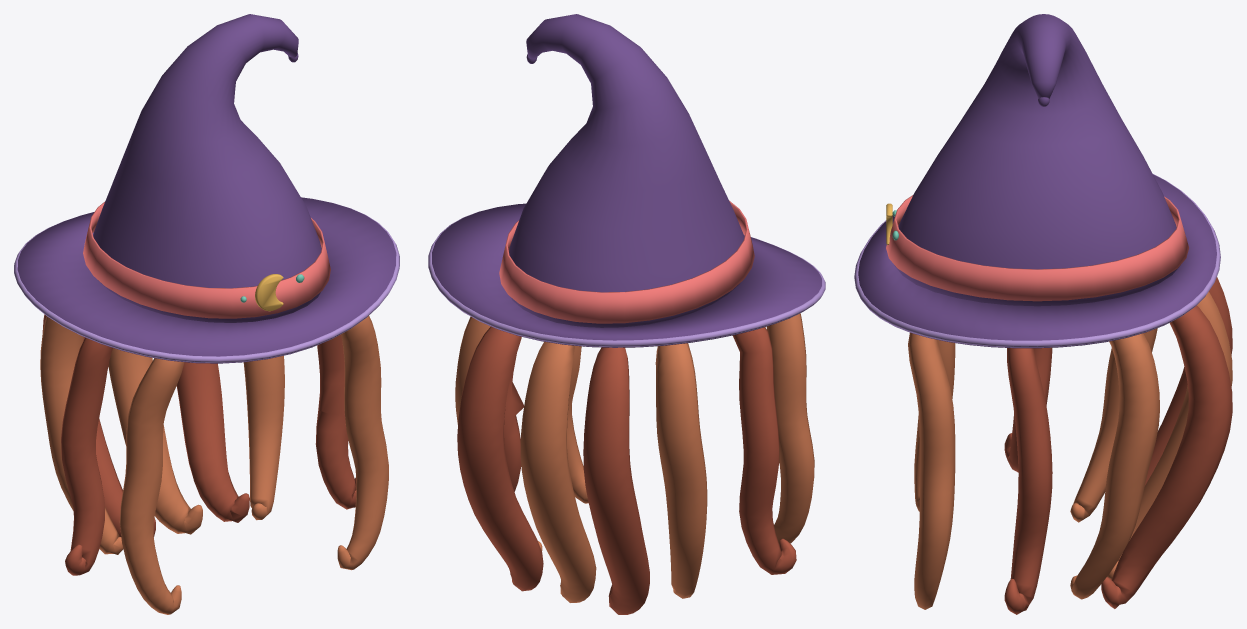
The model's file is witch-hat-hair.glb.
The picture shows the model from 3 angles, left to right: view 1: azimuth 30°, elevation 25°; view 2: azimuth 150°, elevation 25°; view 3: azimuth 270°, elevation 25°; orthographic projection. The views are drawn at different scales.
Visible parts, largest first — view 1: hollow-plum-crown, wavy-brim-with-underside, left-curl-1, right-curl-1, left-curl-2, coral-hatband, back-curl-3, right-curl-3, right-curl-2, left-curl-3, back-curl-2, lavender-brim-piping (+2 smaller); view 2: hollow-plum-crown, wavy-brim-with-underside, back-curl-3, back-curl-1, back-curl-2, left-curl-3, coral-hatband, left-curl-2, left-curl-1, lavender-brim-piping, right-curl-2, right-curl-1 (+1 smaller); view 3: hollow-plum-crown, wavy-brim-with-underside, back-curl-3, coral-hatband, right-curl-3, right-curl-1, right-curl-2, lavender-brim-piping, left-curl-3, back-curl-2, back-curl-1, left-curl-2 (+1 smaller).
Boxes of the visible parts, x1=… form: hollow-plum-crown: x1=93, y1=14, x2=321, y2=322; wavy-brim-with-underside: x1=17, y1=197, x2=396, y2=363; left-curl-1: x1=119, y1=358, x2=184, y2=614; right-curl-1: x1=337, y1=316, x2=388, y2=570; left-curl-2: x1=61, y1=337, x2=112, y2=575; coral-hatband: x1=83, y1=202, x2=330, y2=318; back-curl-3: x1=176, y1=362, x2=249, y2=522; right-curl-3: x1=243, y1=355, x2=284, y2=520; right-curl-2: x1=315, y1=334, x2=356, y2=509; left-curl-3: x1=40, y1=316, x2=123, y2=554; back-curl-2: x1=108, y1=348, x2=202, y2=534; lavender-brim-piping: x1=14, y1=203, x2=399, y2=362; hollow-plum-crown: x1=509, y1=14, x2=744, y2=327; wavy-brim-with-underside: x1=432, y1=203, x2=821, y2=347; back-curl-3: x1=457, y1=326, x2=543, y2=591; back-curl-1: x1=583, y1=347, x2=649, y2=614; back-curl-2: x1=520, y1=341, x2=596, y2=602; left-curl-3: x1=655, y1=343, x2=707, y2=598; coral-hatband: x1=499, y1=200, x2=754, y2=323; left-curl-2: x1=732, y1=327, x2=796, y2=574; left-curl-1: x1=766, y1=313, x2=814, y2=544; lavender-brim-piping: x1=428, y1=207, x2=825, y2=347; right-curl-2: x1=504, y1=353, x2=524, y2=491; right-curl-1: x1=567, y1=346, x2=588, y2=503; hollow-plum-crown: x1=894, y1=14, x2=1180, y2=306; wavy-brim-with-underside: x1=858, y1=174, x2=1216, y2=348; back-curl-3: x1=1101, y1=305, x2=1232, y2=608; coral-hatband: x1=886, y1=195, x2=1188, y2=301; right-curl-3: x1=1070, y1=333, x2=1159, y2=599; right-curl-1: x1=908, y1=332, x2=955, y2=609; right-curl-2: x1=1004, y1=348, x2=1052, y2=614; lavender-brim-piping: x1=854, y1=174, x2=1220, y2=347; left-curl-3: x1=1070, y1=328, x2=1157, y2=522; back-curl-2: x1=1107, y1=292, x2=1232, y2=579; back-curl-1: x1=1145, y1=277, x2=1232, y2=485; left-curl-2: x1=1004, y1=347, x2=1052, y2=472.
Bounding box in the file's own units: 2.06 × 3.03 × 1.81.
